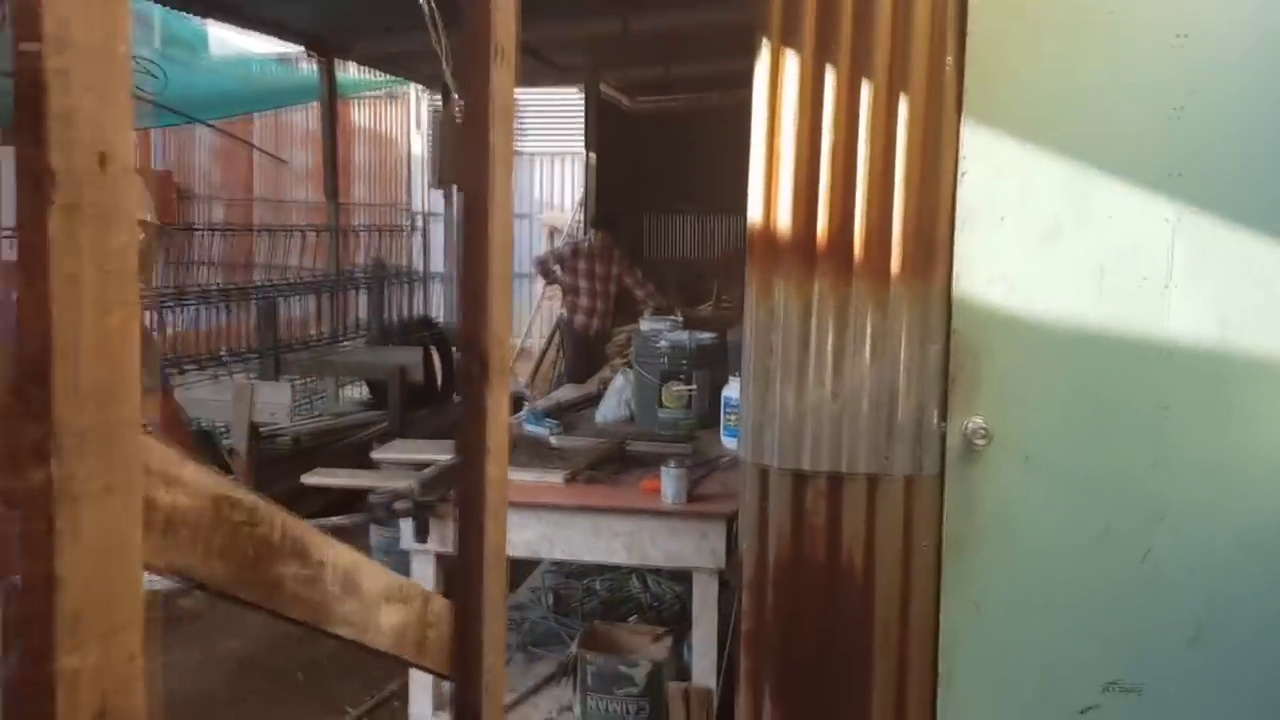helmet-off: (588, 214, 619, 254)
person: (529, 212, 662, 400)
